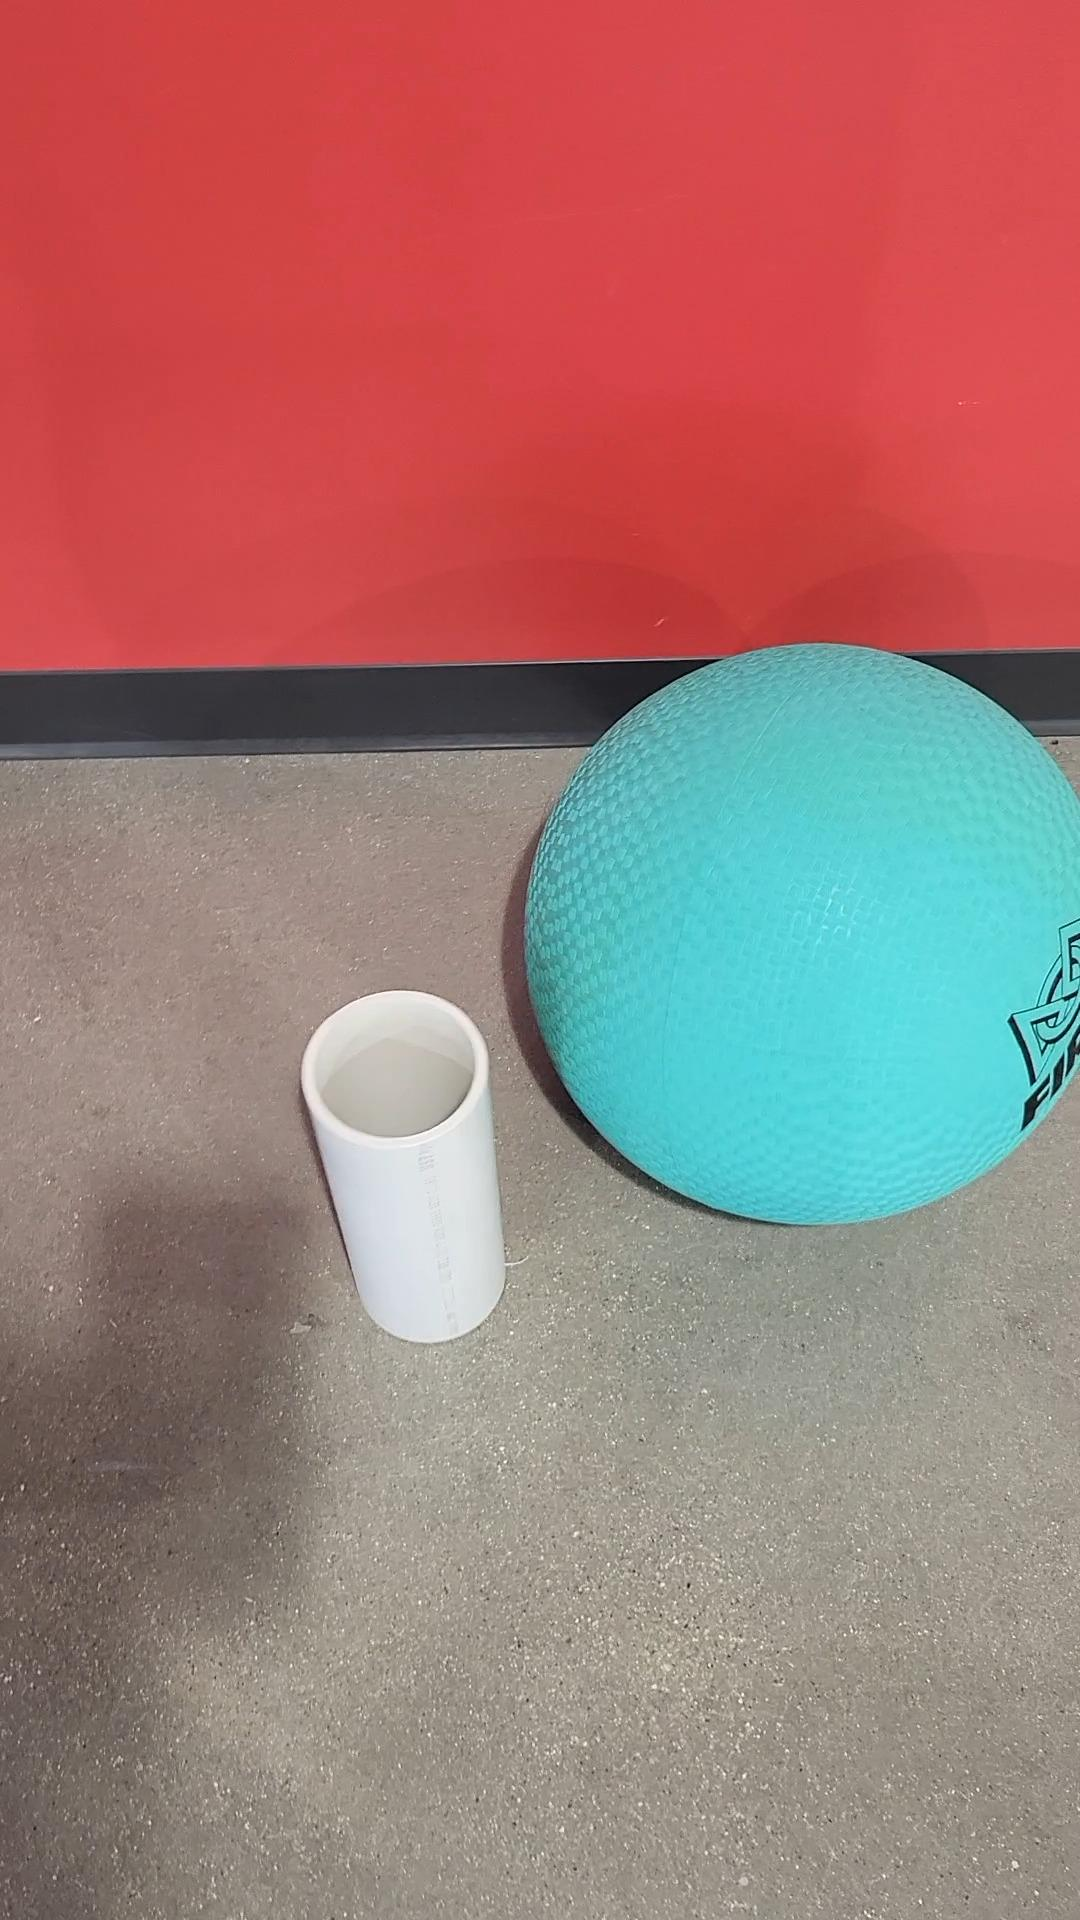algae: (521, 638, 1079, 1232), (297, 985, 513, 1345)
